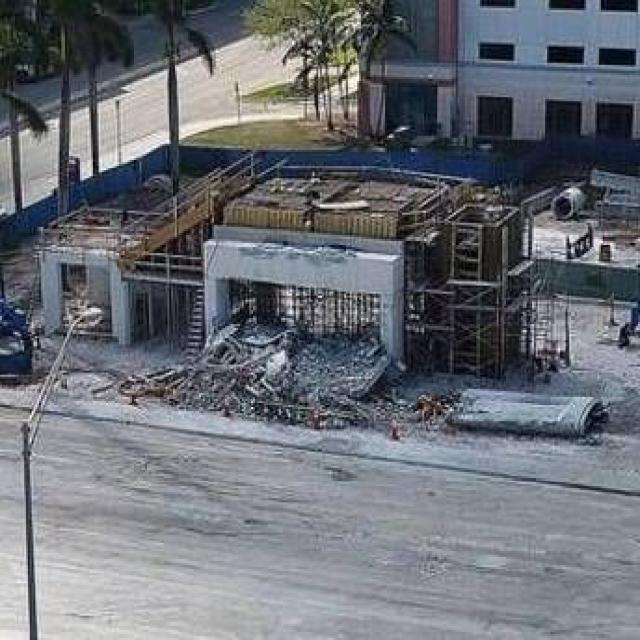collapsed_building: (70, 176, 524, 423)
